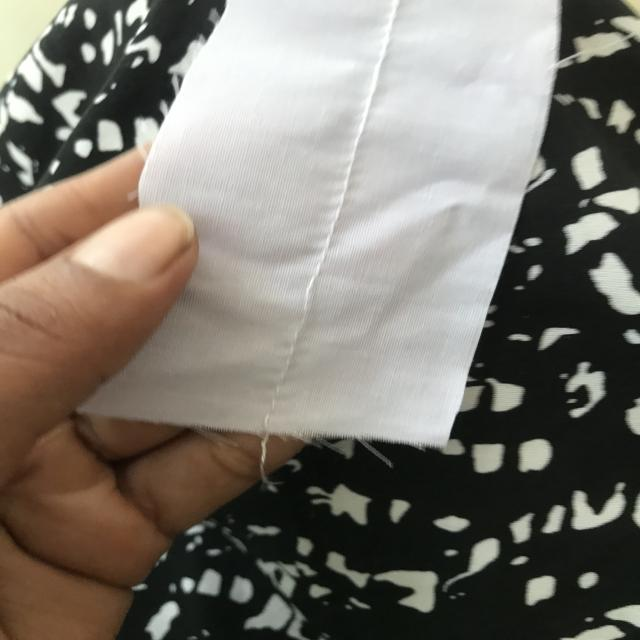skip: (290, 258, 330, 333)
